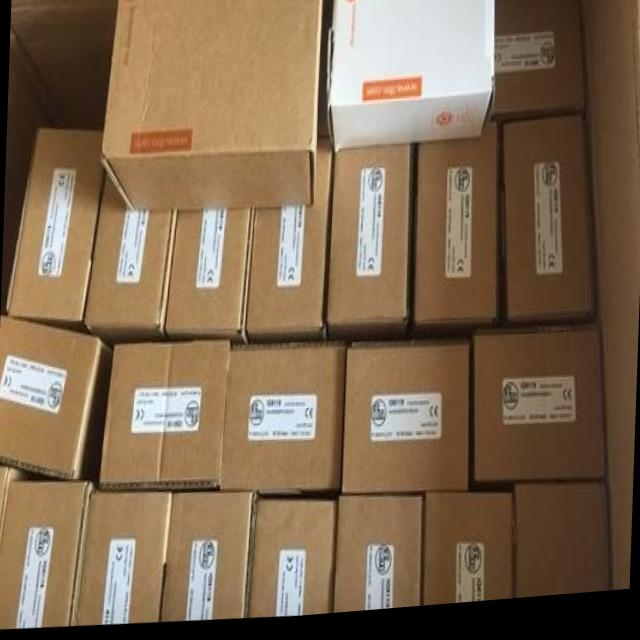box: (102, 0, 323, 214), (326, 0, 493, 156), (470, 330, 605, 495), (3, 127, 104, 336), (498, 123, 596, 335), (406, 130, 497, 350), (242, 133, 333, 351), (342, 348, 470, 498), (99, 346, 229, 490), (221, 348, 346, 497), (0, 317, 109, 481), (83, 170, 177, 352), (324, 152, 410, 348), (0, 480, 91, 627), (73, 493, 171, 625), (158, 496, 256, 622), (162, 214, 251, 352), (493, 0, 587, 126), (514, 489, 611, 607), (421, 500, 514, 613), (332, 501, 421, 617), (248, 504, 337, 619), (0, 467, 25, 541)
